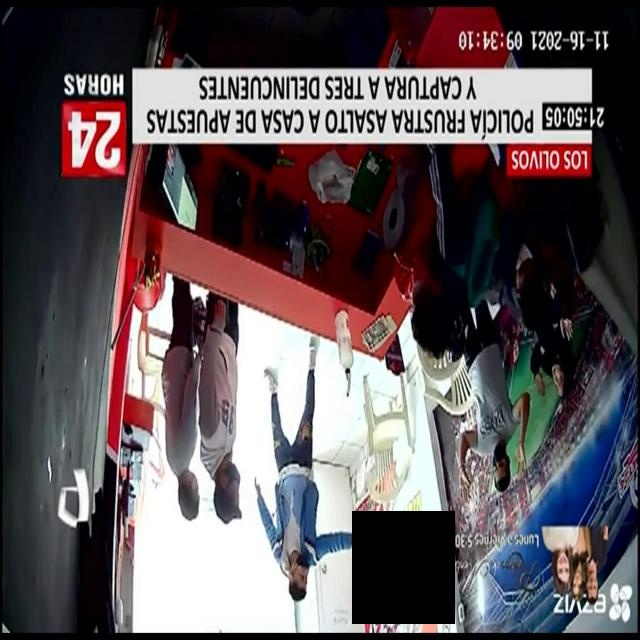gun: (350, 515, 352, 555)
